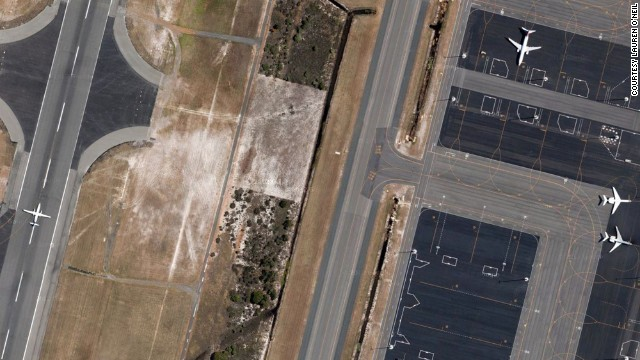aircraft: (505, 24, 543, 66), (601, 183, 632, 216), (600, 225, 634, 255), (21, 200, 53, 229)
